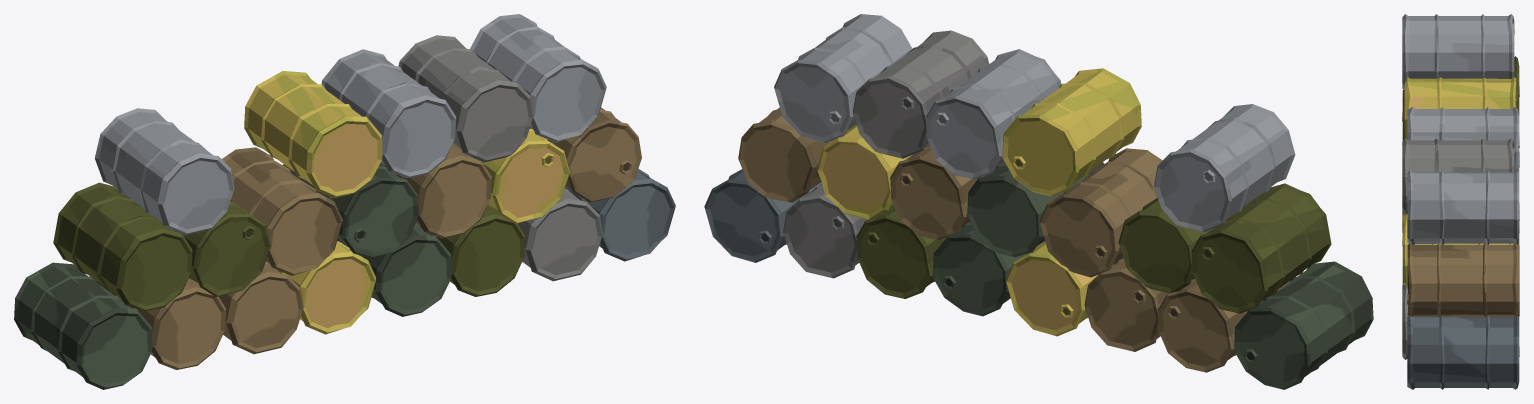
Rendered from SM_Prop_BarrelPile_01.fbx.
3 views of the same model, side by side, from view 1: azimuth 30°, elevation 25°; view 2: azimuth 150°, elevation 25°; view 3: azimuth 270°, elevation 25° (orthographic). The views are drawn at different scales.
Visible parts, largest first — view 1: SM_Prop_BarrelPile_01; view 2: SM_Prop_BarrelPile_01; view 3: SM_Prop_BarrelPile_01.
Boxes of the visible parts, x1=… form: SM_Prop_BarrelPile_01: x1=14, y1=14, x2=675, y2=389; SM_Prop_BarrelPile_01: x1=704, y1=14, x2=1373, y2=389; SM_Prop_BarrelPile_01: x1=1402, y1=14, x2=1519, y2=389.
Size of the model in its own units: 552 by 189 by 109.
